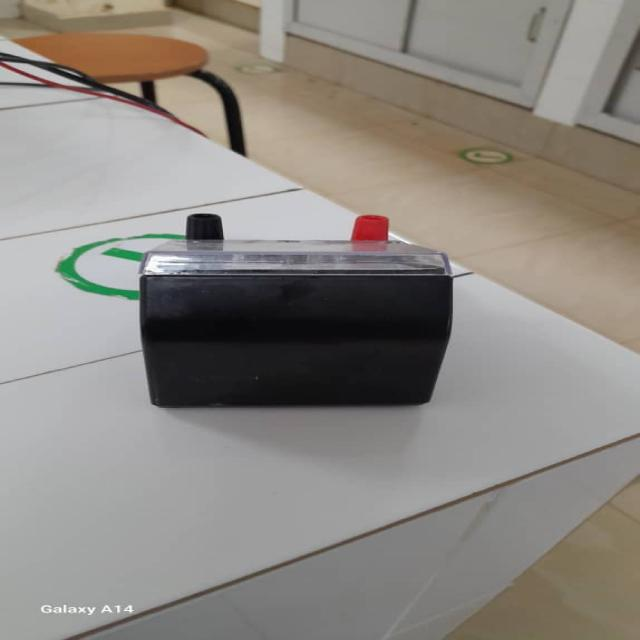Voltmeter: (121, 207, 462, 415)
